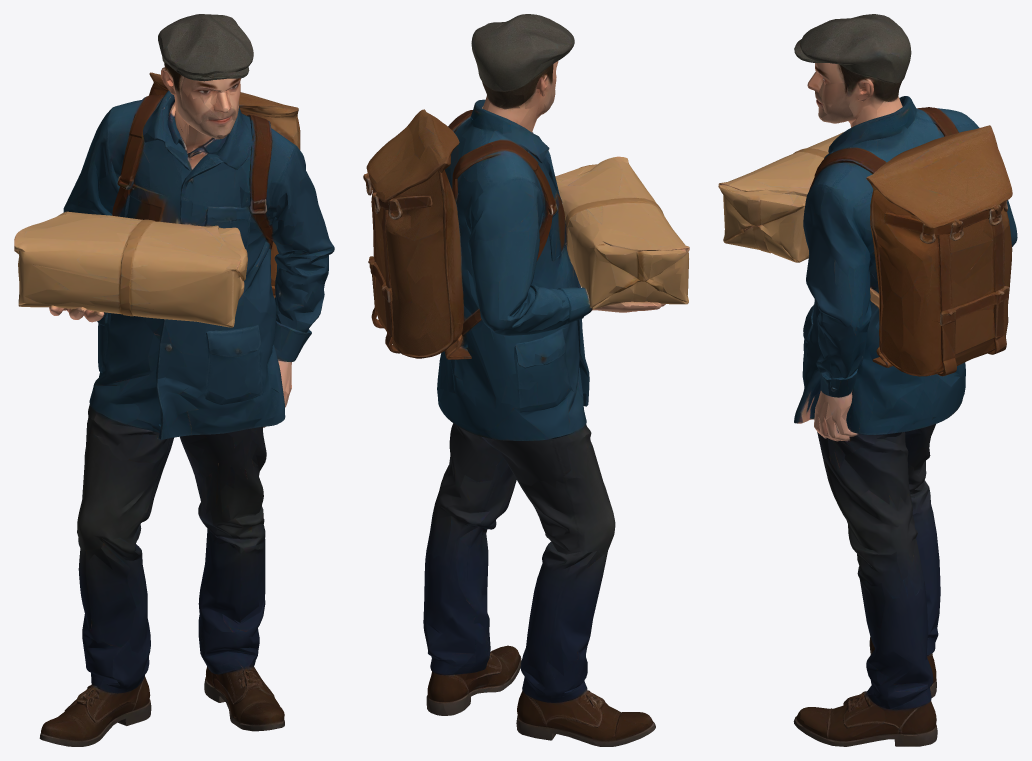
The model's file is porter.glb.
3 renders of one model, left to right at view 1: azimuth 30°, elevation 25°; view 2: azimuth 150°, elevation 25°; view 3: azimuth 270°, elevation 25°, orthographic. The views are drawn at different scales.
Size of the model in its own units: 0.8598 by 1.9 by 0.7385.
Materials: 1 (1 with a texture image).
